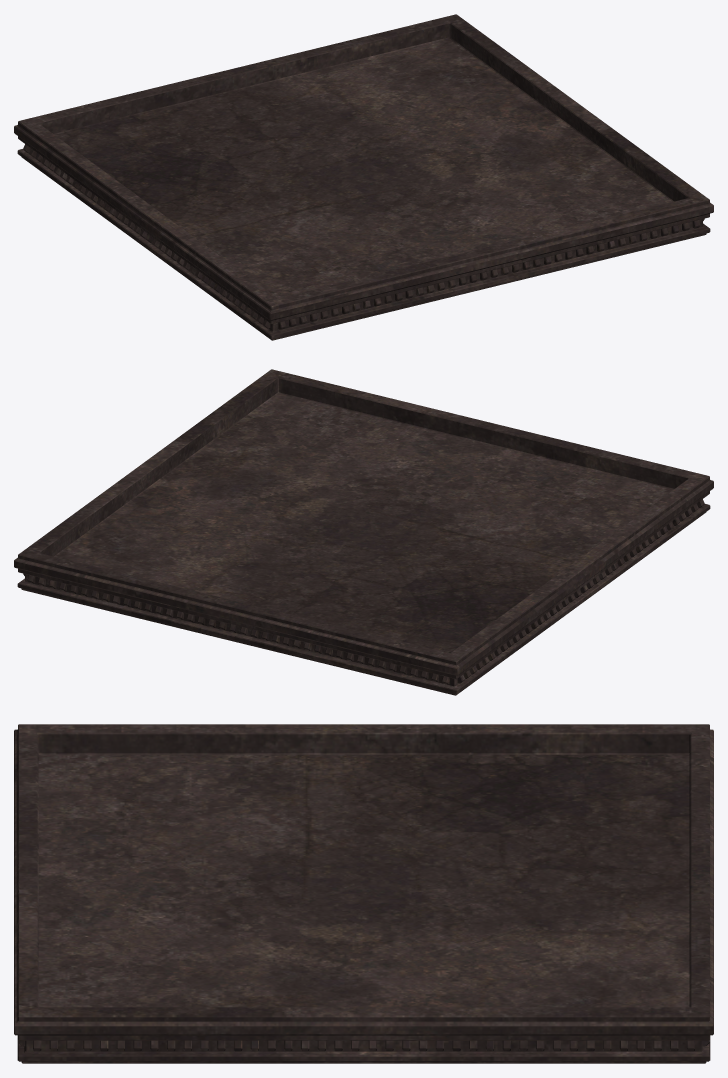
File: SK3 ROOF SMALL.fbx
The picture shows the model from 3 angles, top to bottom: view 1: azimuth 30°, elevation 25°; view 2: azimuth 150°, elevation 25°; view 3: azimuth 270°, elevation 25°; orthographic projection. The views are drawn at different scales.
Parts seen in each view (by area): view 1: SK3 ROOF SMALL; view 2: SK3 ROOF SMALL; view 3: SK3 ROOF SMALL.
Boxes of the visible parts, box(x1,y1,x2,y2) form: SK3 ROOF SMALL: box(14, 14, 713, 340); SK3 ROOF SMALL: box(14, 369, 713, 695); SK3 ROOF SMALL: box(14, 724, 713, 1063).
Size of the model in its own units: 1271 by 98.72 by 1271.
